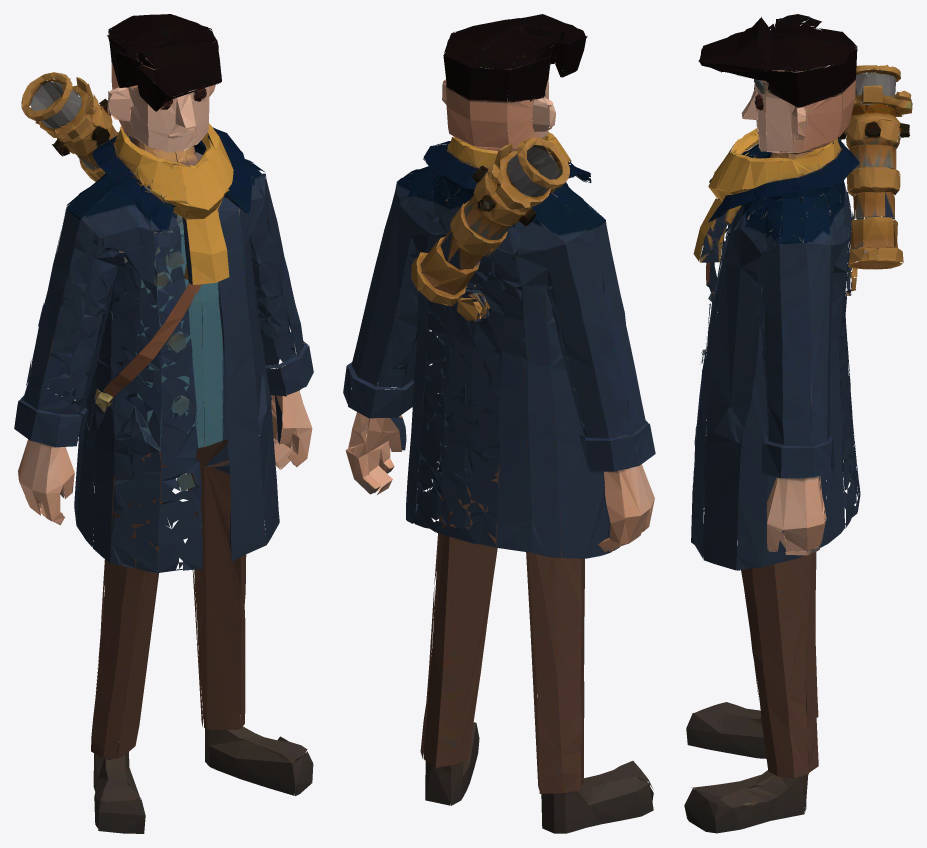
Rendered from habitant.glb.
The picture shows the model from 3 angles, left to right: view 1: azimuth 30°, elevation 25°; view 2: azimuth 150°, elevation 25°; view 3: azimuth 270°, elevation 25°; orthographic projection. The views are drawn at different scales.
Parts seen in each view (by area): view 1: world; view 2: world; view 3: world.
Boxes of the visible parts, bbox=[...] form: world: bbox=[14, 14, 313, 833]; world: bbox=[343, 14, 655, 833]; world: bbox=[684, 14, 912, 833].
Size of the model in its own units: 0.392 by 0.9879 by 0.2738.
Materials: 1 (1 with a texture image).
